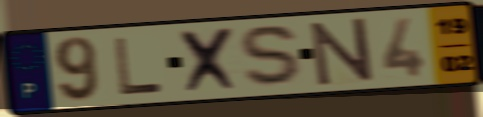4: (381, 15, 428, 80)
9: (53, 34, 105, 104)
L: (111, 36, 165, 97)
N: (307, 15, 376, 88)
S: (237, 23, 309, 91)
X: (177, 24, 244, 96)
